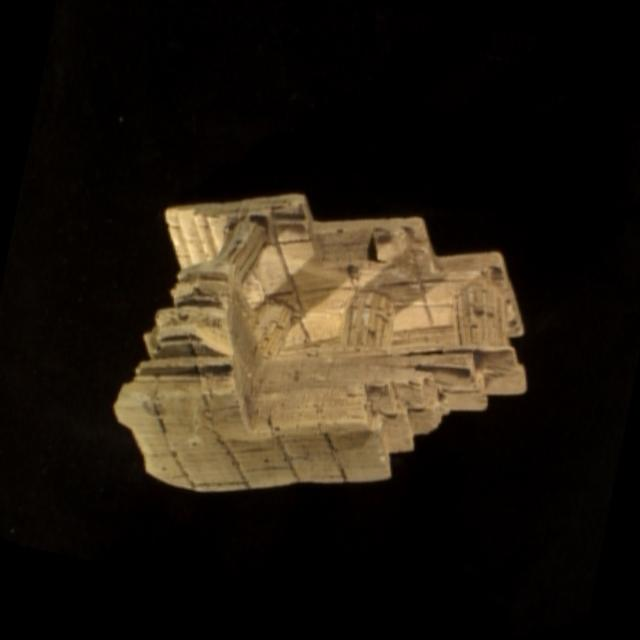Instance-Segmentation: (114, 194, 524, 491)
